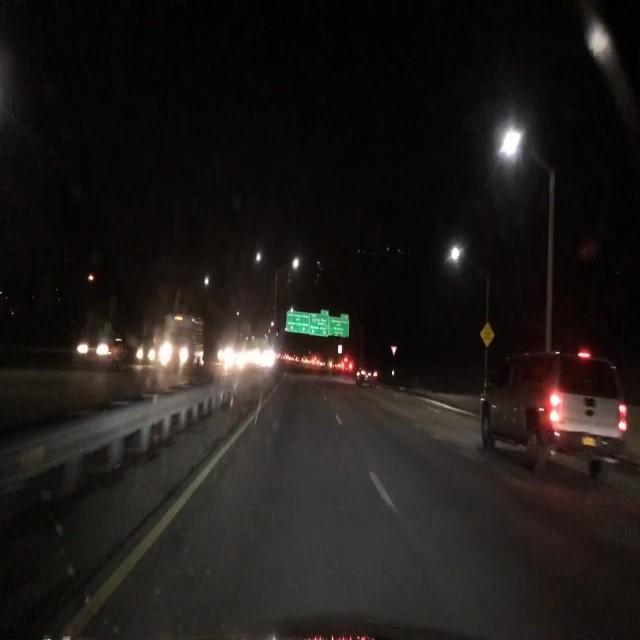normal: (441, 303, 629, 483)
